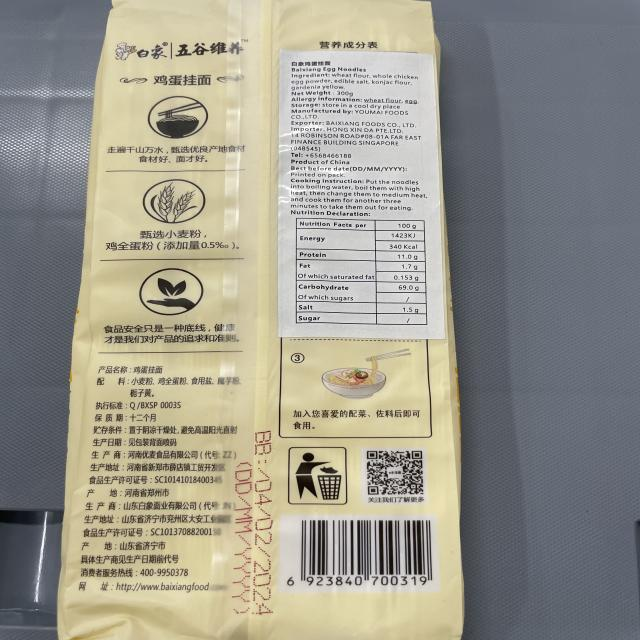object_name: (83, 1, 457, 640)
